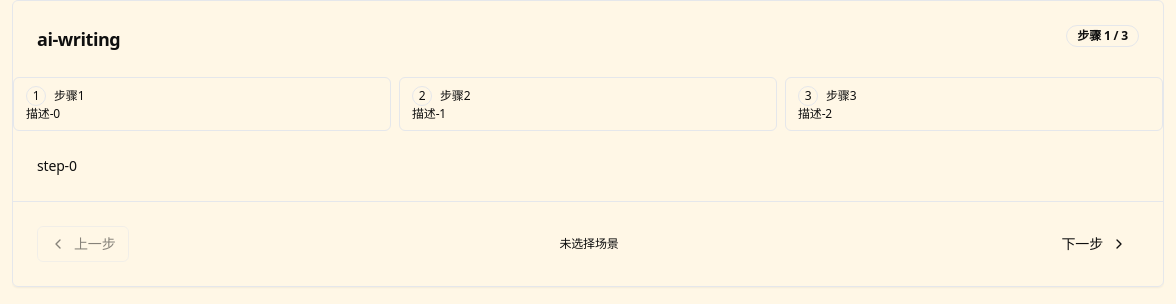
Test case: Wizard — 步骤导航 › 点击「下一步」推进 step，body 内容变化
The width and height of the screenshot is (1176, 304).
Check: the text "step-0" is shown, box x1=37 y1=156 x2=77 y2=175
Click the button "下一步": (1094, 244) x1=1050 y1=226 x2=1139 y2=262
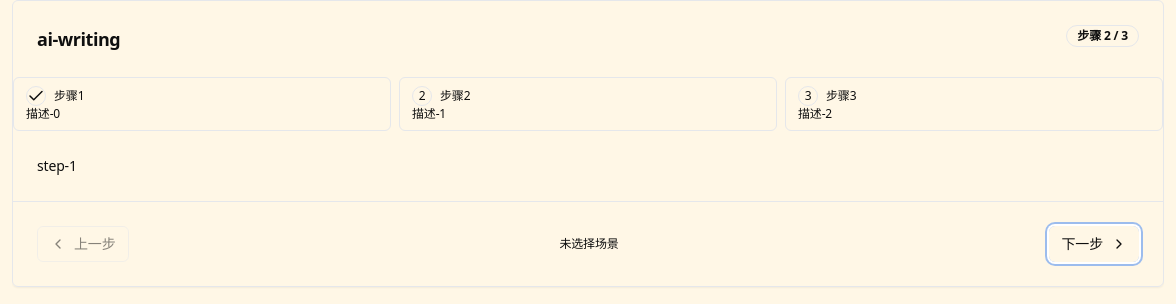
Check: the text "step-1" is shown, box x1=37 y1=156 x2=77 y2=175
Check: the text "步骤 2 / 3" is shown, box x1=1066 y1=25 x2=1139 y2=47
